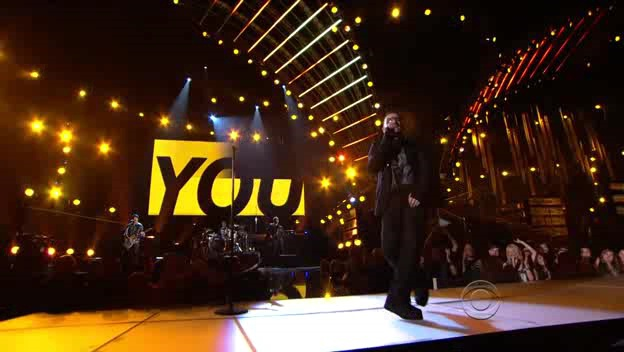person: (365, 108, 431, 220), (362, 108, 428, 220), (368, 108, 434, 220), (365, 105, 431, 217), (365, 111, 431, 223)
target_negative: (239, 86, 470, 310), (148, 5, 311, 223), (44, 173, 330, 255), (490, 118, 551, 170), (496, 121, 515, 278), (371, 347, 481, 349)
